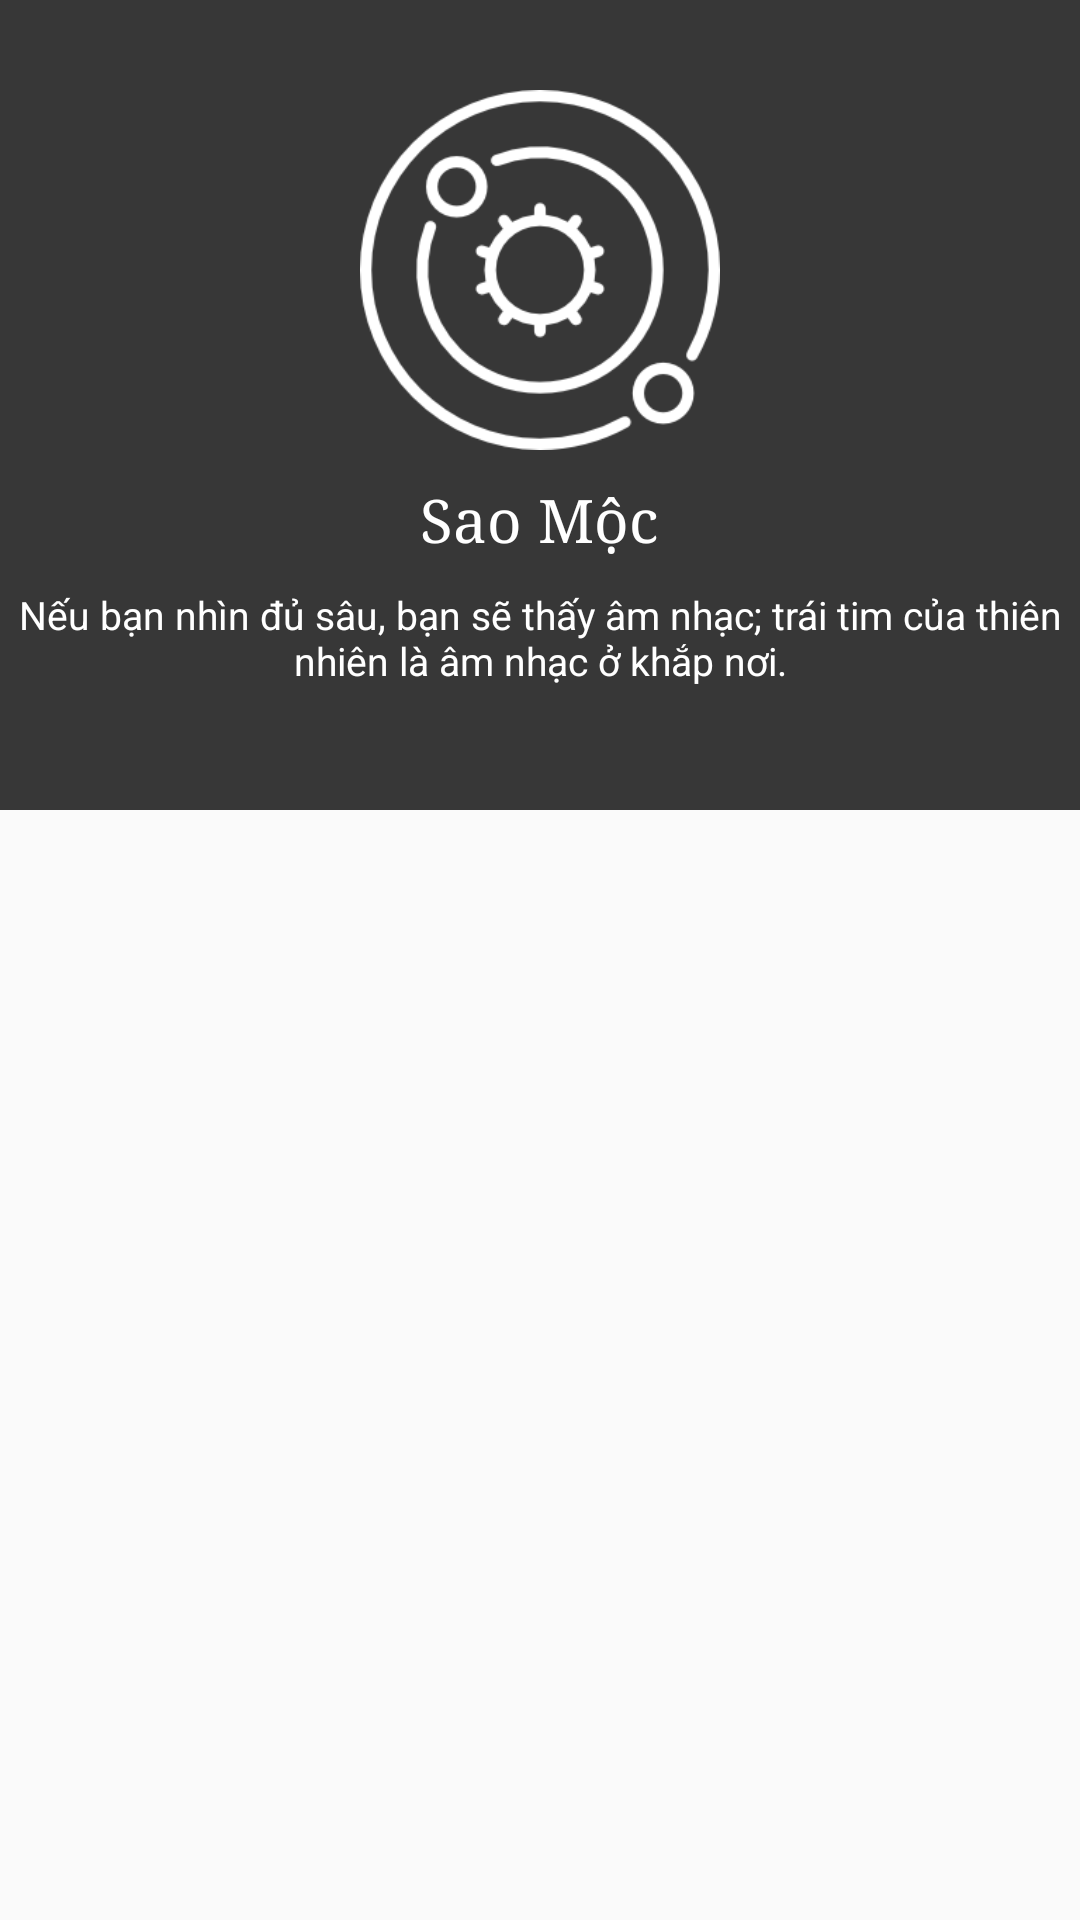

Icons on this 1080 × 1920 Android screen, each with its box as detection(x1, y1, x2, y2):
solar system: detection(360, 90, 720, 450)
